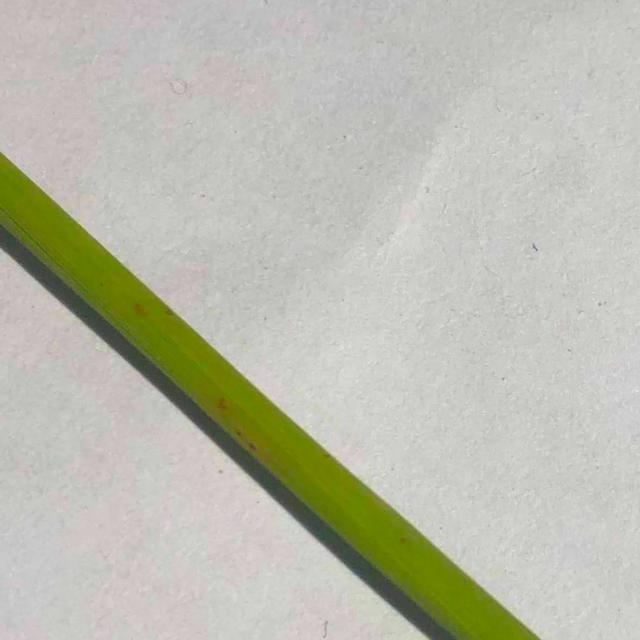brownspots: (210, 392, 272, 468), (126, 291, 154, 328), (393, 532, 408, 550)
